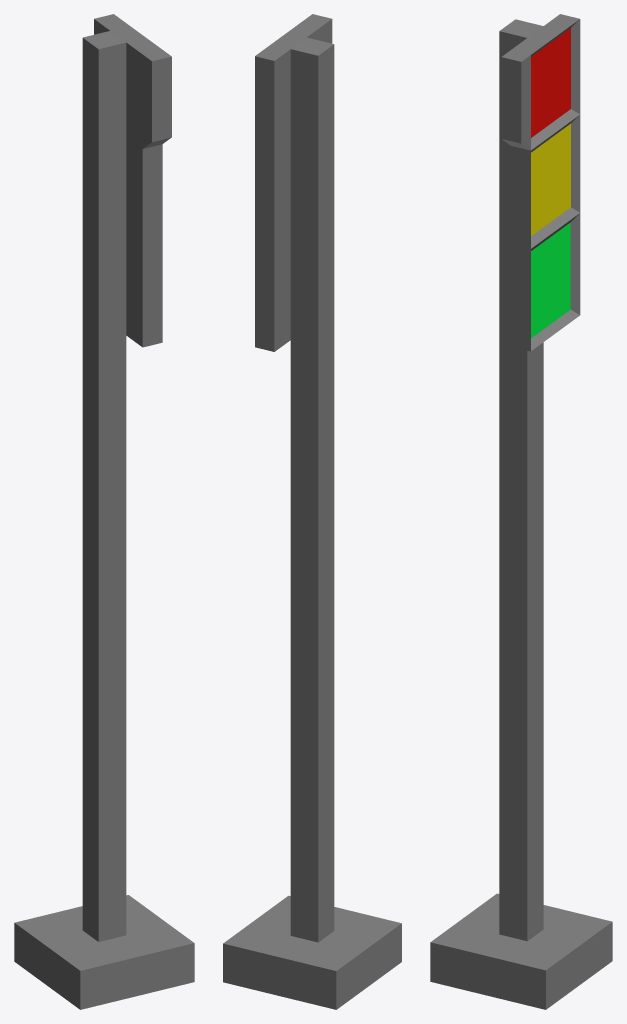
Rendered from TraficLight.fbx.
The picture shows the model from 3 angles, left to right: view 1: azimuth 30°, elevation 25°; view 2: azimuth 150°, elevation 25°; view 3: azimuth 330°, elevation 25°; orthographic projection.
Visible parts, largest first — view 1: Cube; view 2: Cube; view 3: Cube.
Part boxes in pixels (left/top/right/bottom): Cube: left=14, top=14, right=194, bottom=1009; Cube: left=223, top=14, right=401, bottom=1009; Cube: left=430, top=14, right=612, bottom=1009.
Bounding box in the file's own units: 200 × 1560 × 202.
